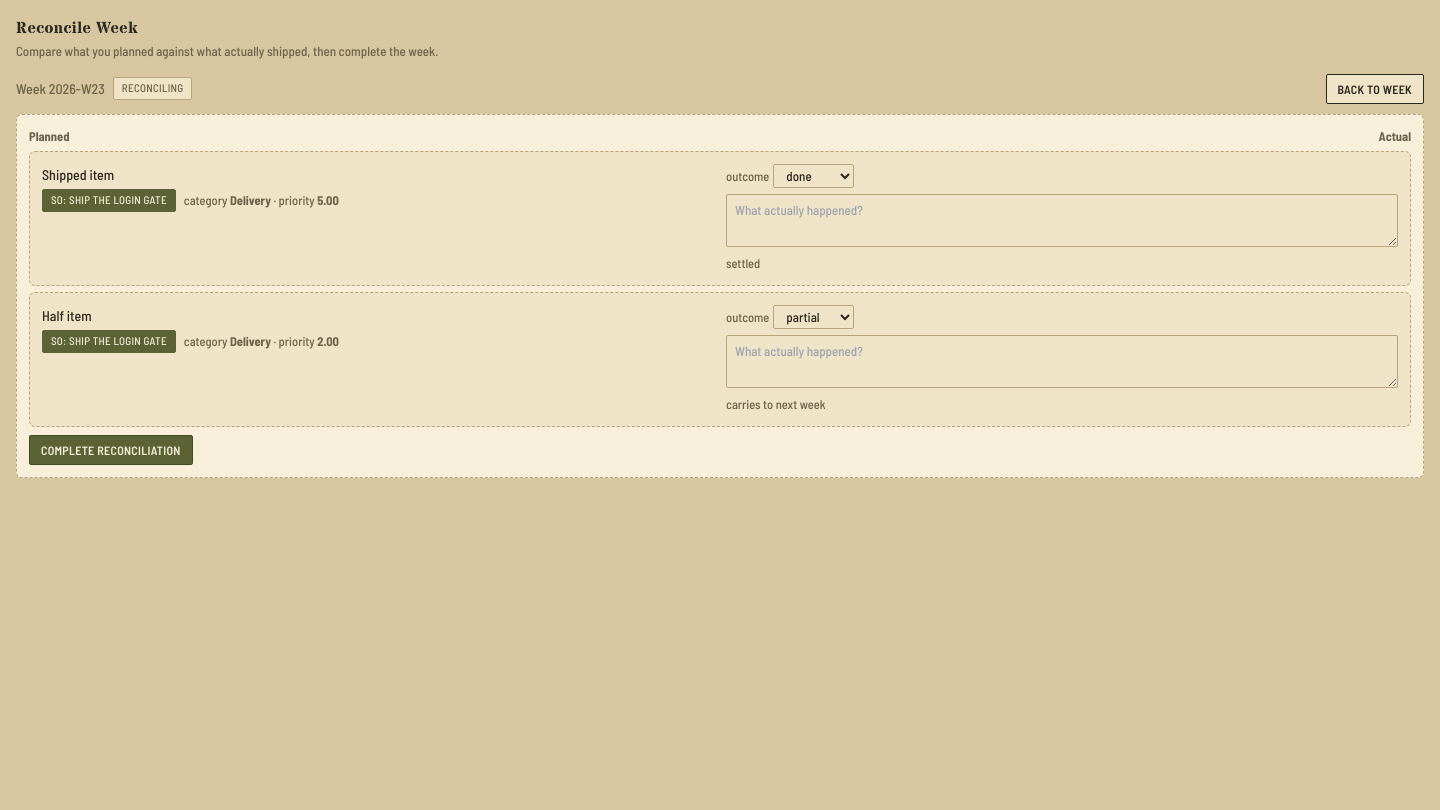
WeeklyReconcile — planned-vs-actual (U11) › enables complete when all commits are terminal and shows the carry-forward summary + depth nudge
Expected: the text "Shipped item" is shown, [42, 166, 114, 183]
Click the button with test id "complete-reconcile".
click(111, 450)  # box [29, 435, 193, 465]
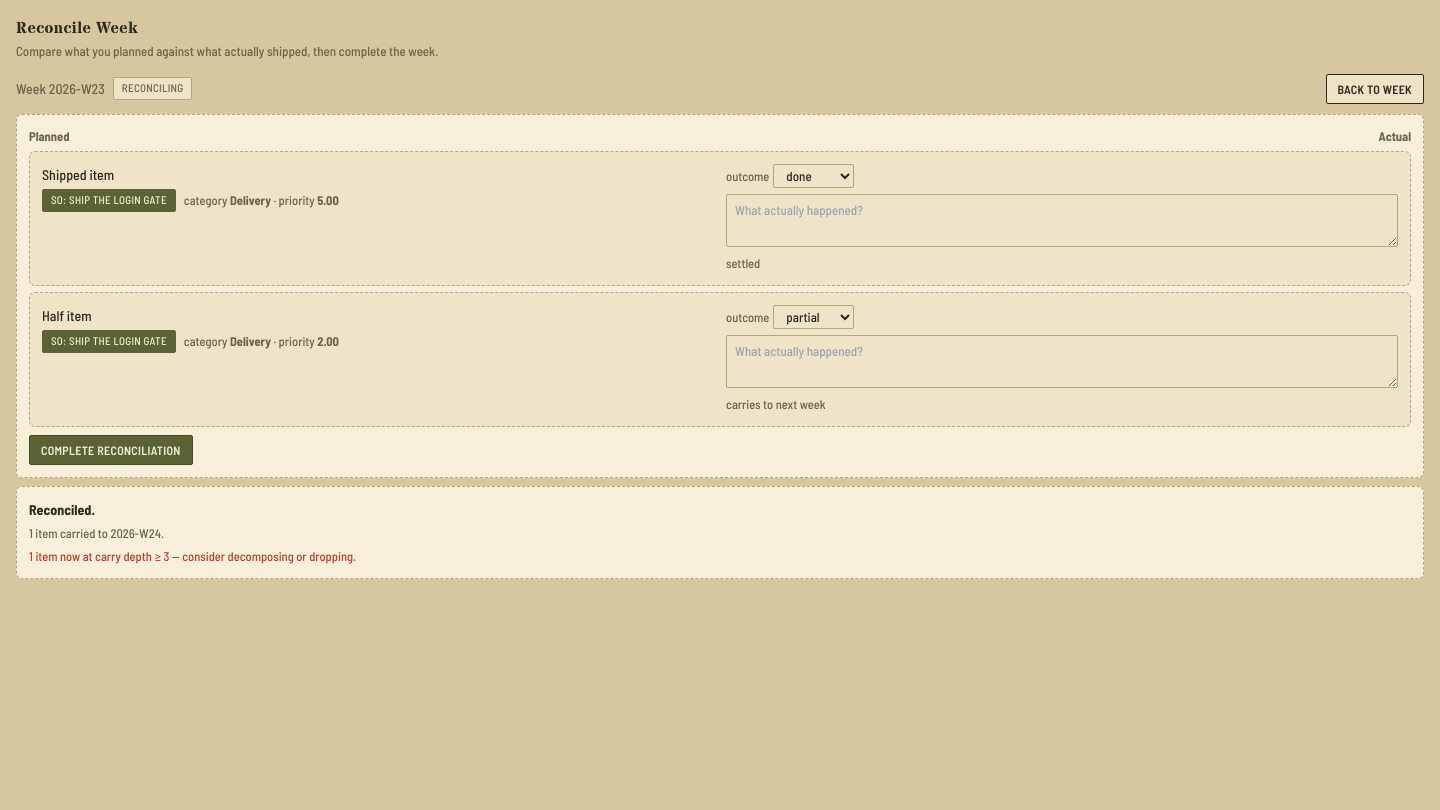
Now the element with test id "carry-summary" is shown, box [16, 486, 1424, 579]
Now the text with test id "carry-count" shows "1 item carried to 2026-W24", box [29, 525, 164, 541]
Now the text with test id "deep-carry-nudge" shows "carry depth ≥ 3", box [58, 548, 356, 564]
